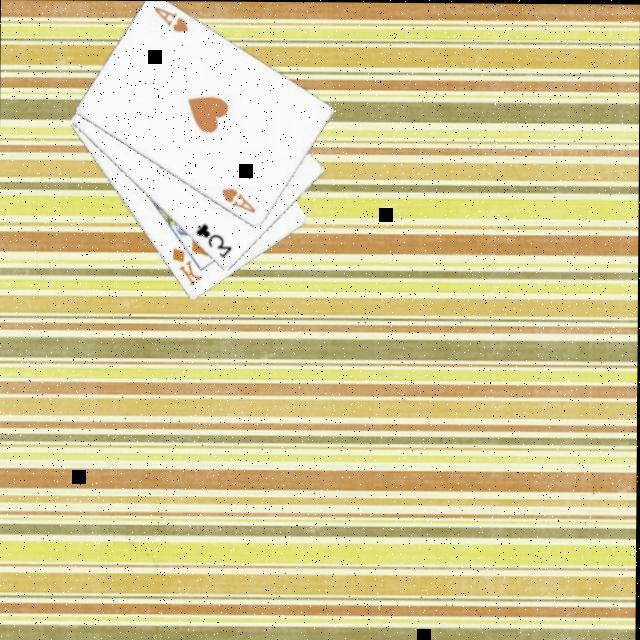3C: (191, 218, 233, 260)
AH: (148, 3, 190, 35), (217, 184, 257, 215)
KD: (167, 244, 203, 288)
